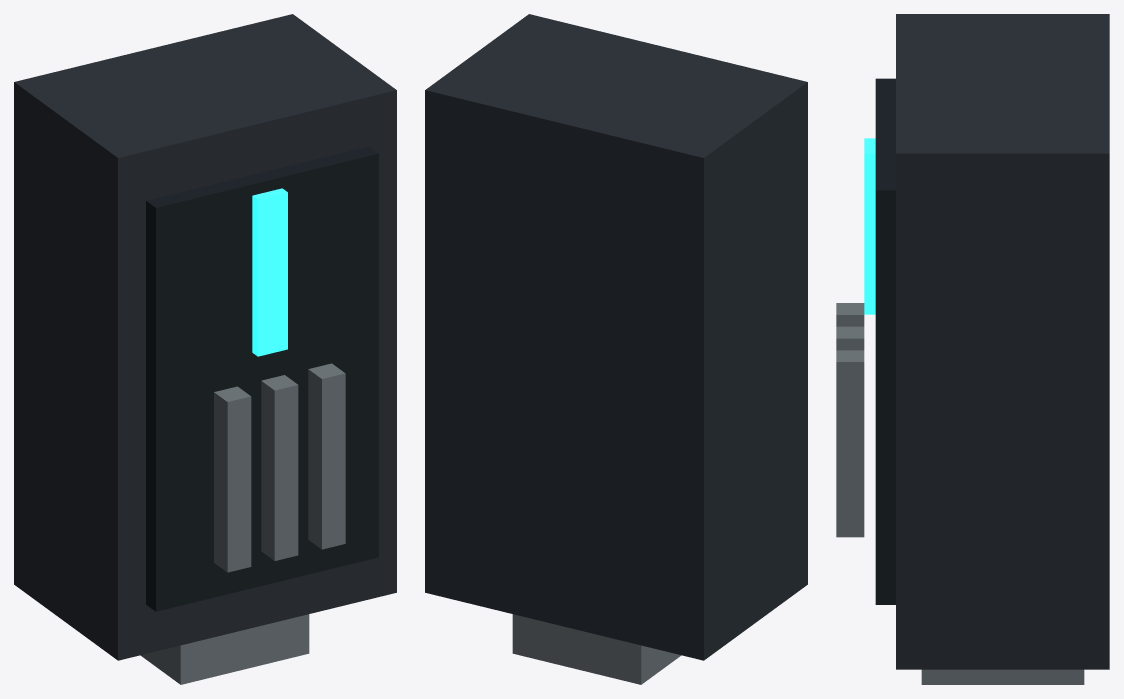
The model's file is autocannon_module.glb.
The picture shows the model from 3 angles, left to right: view 1: azimuth 30°, elevation 25°; view 2: azimuth 150°, elevation 25°; view 3: azimuth 270°, elevation 25°; orthographic projection. The views are drawn at different scales.
Visible parts, largest first — view 1: Cartridge, CartridgeFace, GunGlyph, GunGlyph.002, GunGlyph.001, LockTab, CapacityStripe; view 2: Cartridge, LockTab; view 3: Cartridge, CartridgeFace, GunGlyph.002, LockTab, CapacityStripe, GunGlyph.001, GunGlyph.
Part boxes in pixels (box(x1,y1,x2,y2)): Cartridge: box(14, 14, 396, 660); CartridgeFace: box(146, 146, 378, 611); GunGlyph: box(214, 386, 251, 572); GunGlyph.002: box(308, 363, 345, 549); GunGlyph.001: box(261, 375, 298, 560); LockTab: box(140, 614, 309, 684); CapacityStripe: box(252, 188, 287, 356); Cartridge: box(425, 14, 807, 660); LockTab: box(512, 614, 681, 684); Cartridge: box(896, 14, 1109, 669); CartridgeFace: box(875, 78, 895, 604); GunGlyph.002: box(836, 350, 864, 537); LockTab: box(921, 669, 1084, 684); CapacityStripe: box(864, 138, 875, 314); GunGlyph.001: box(836, 326, 864, 350); GunGlyph: box(836, 303, 864, 326).
Size of the model in its own units: 0.65 by 1.24 by 0.5375.
